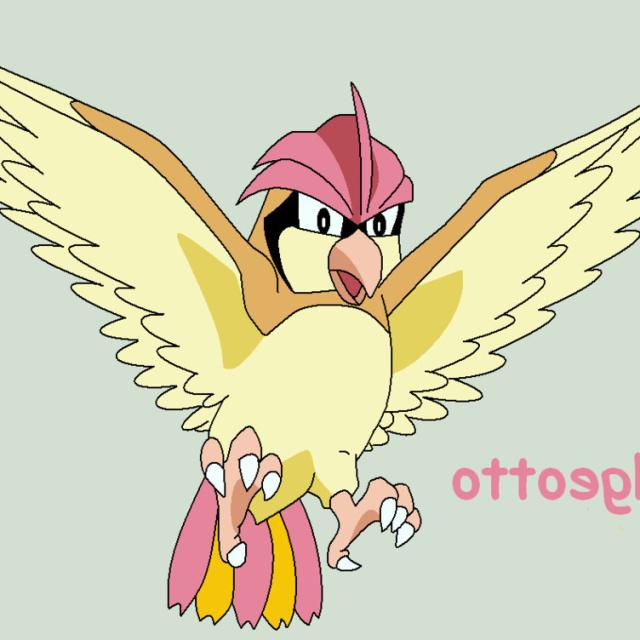Pidgeotto: (66, 84, 515, 628)
